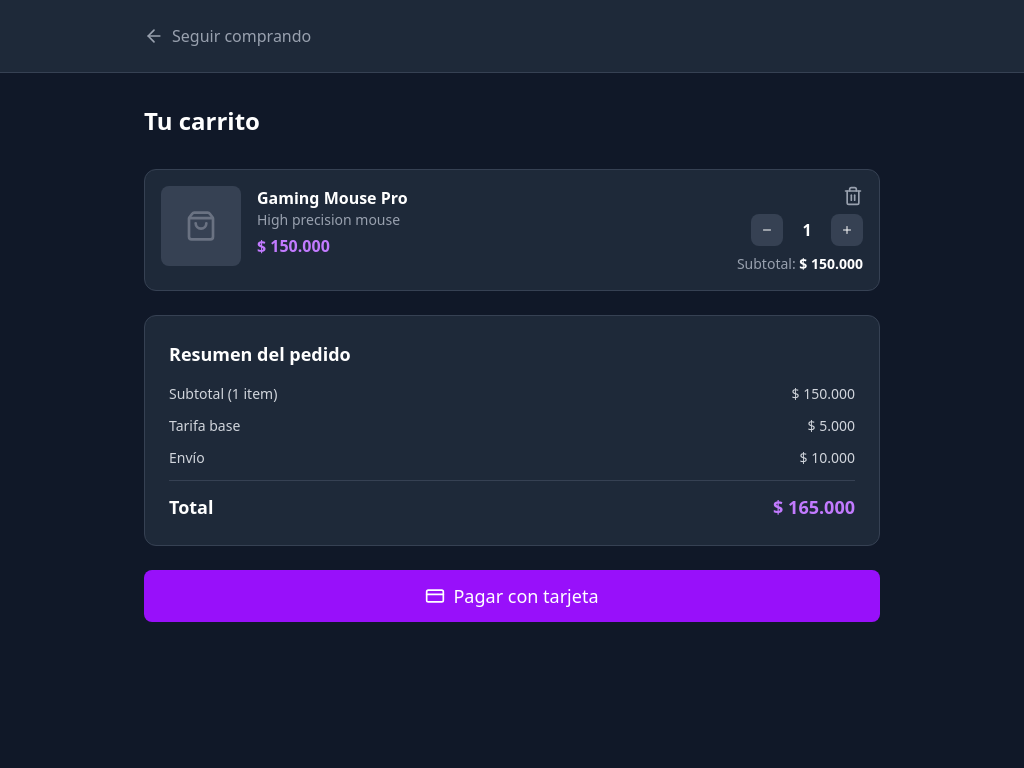
Test: CartPage › Payment Modal › opens payment modal when clicking pay button
Click the button "Pagar con tarjeta".
click(512, 596)  # box [144,570,880,622]
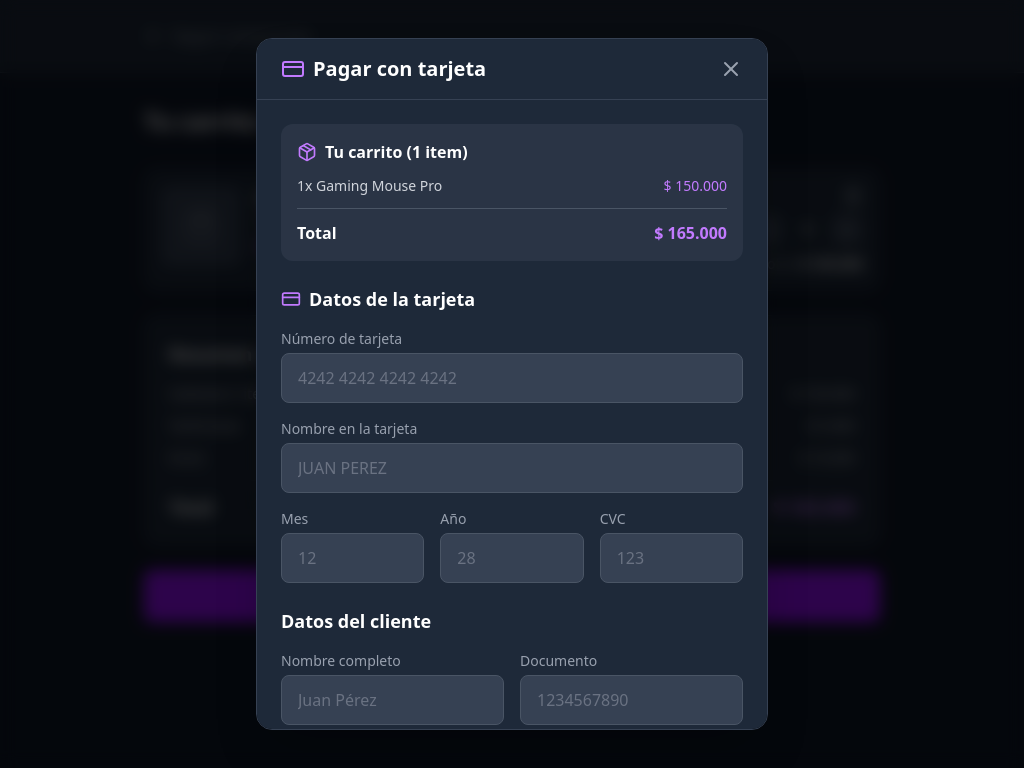
Now the heading "Datos de la tarjeta" is shown, box [281,287,475,311]
